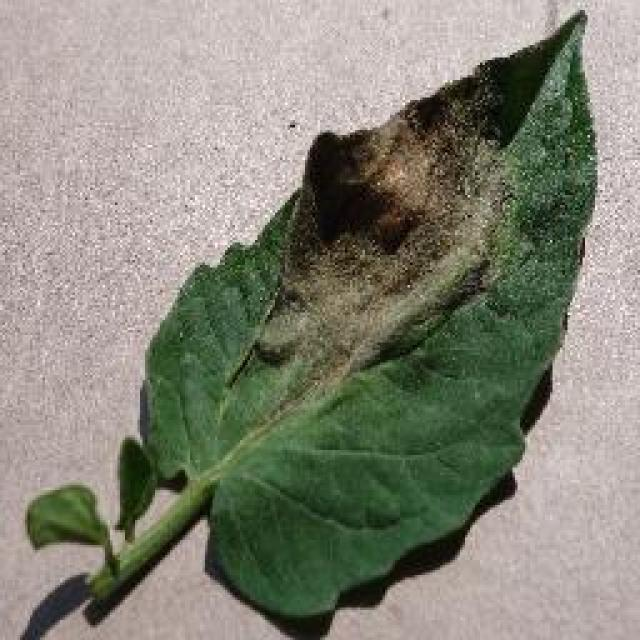leaf blight: (27, 10, 595, 625)
